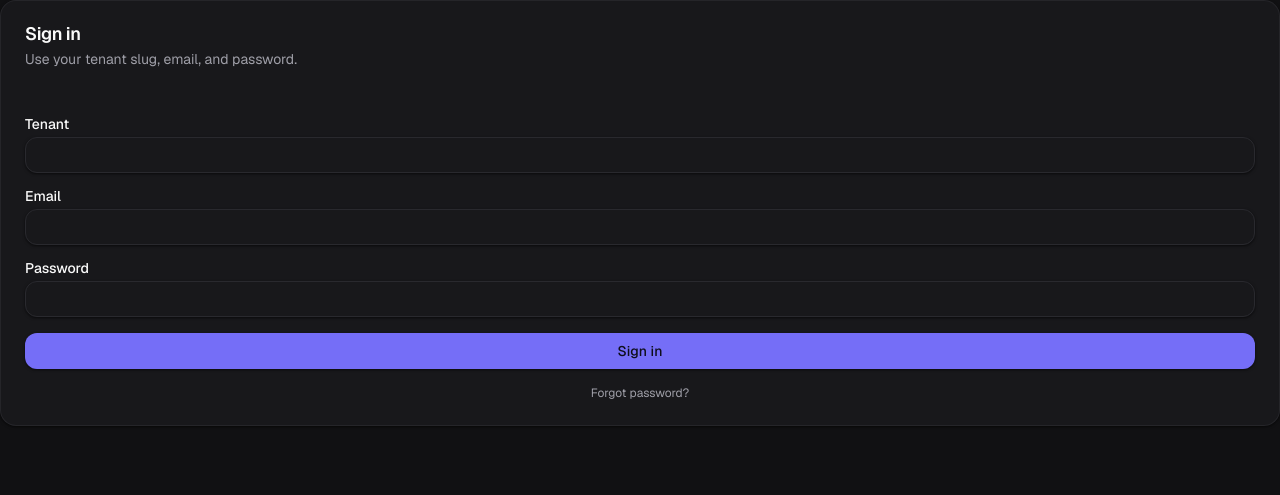
Test: LoginForm › surfaces a friendly error and does not set a session on a 401
Type "demo" into the field labelled "Tenant".
click(640, 155); type("demo")  # box top-left (25, 137), bottom-right (1255, 173)
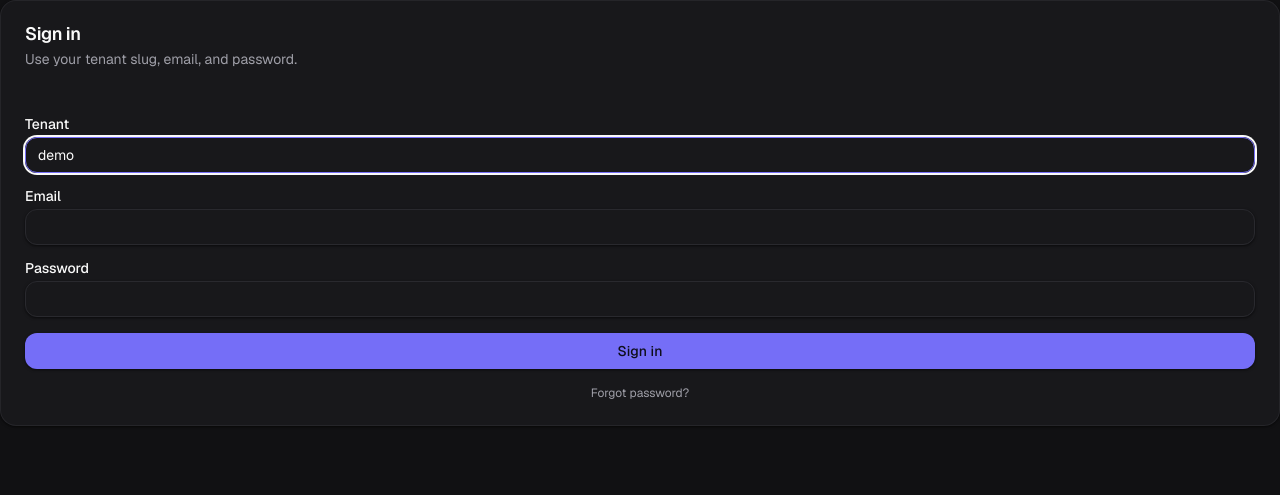
Type "ops@demo.test" into the field labelled "Email".
click(640, 227); type("ops@demo.test")  # box top-left (25, 209), bottom-right (1255, 245)
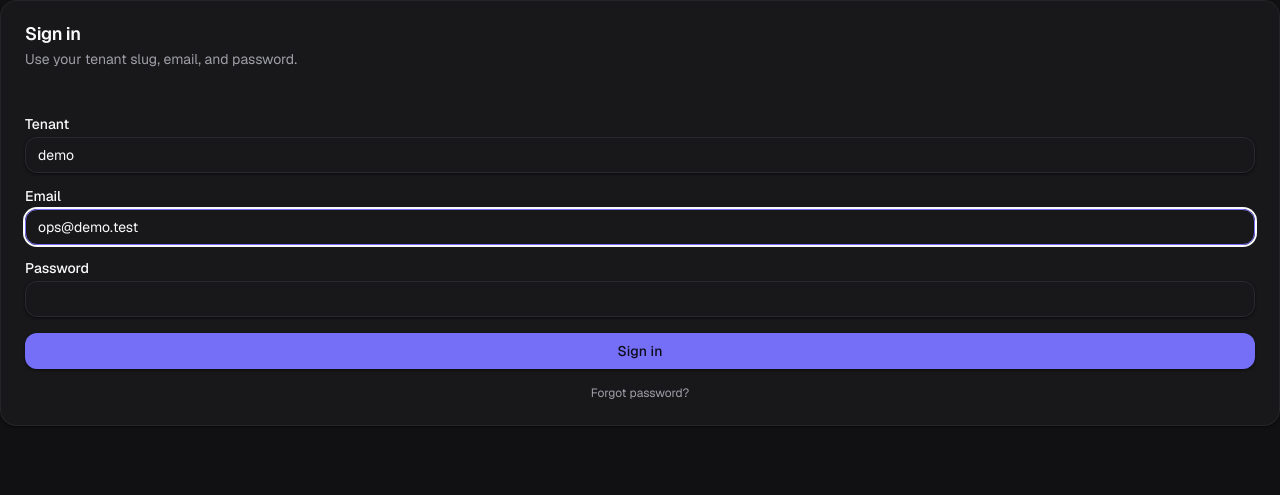
Type "sup3rsecret" into the password field labelled "Password".
click(640, 299); type("sup3rsecret")  # box top-left (25, 281), bottom-right (1255, 317)
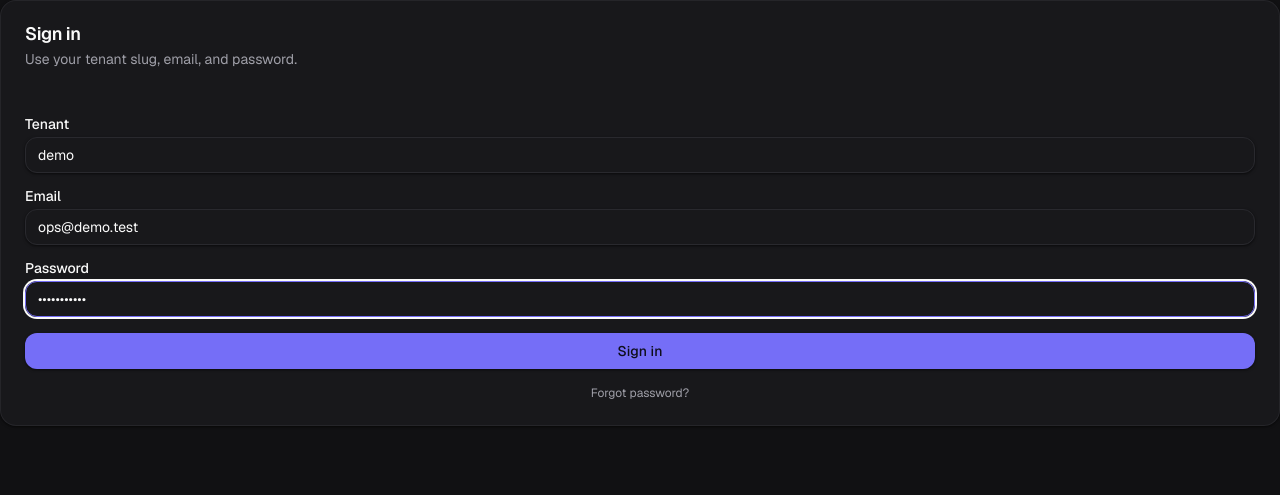
Click the button "Sign in".
click(640, 351)  # box top-left (25, 333), bottom-right (1255, 369)
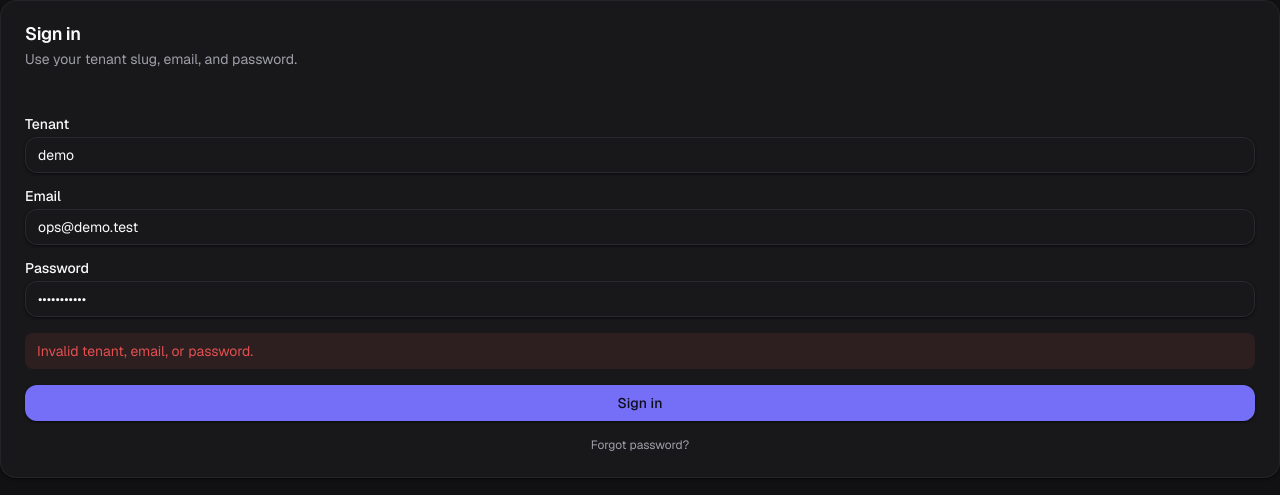
Now the message reads "Invalid tenant, email, or password.", box top-left (37, 342), bottom-right (253, 360)
